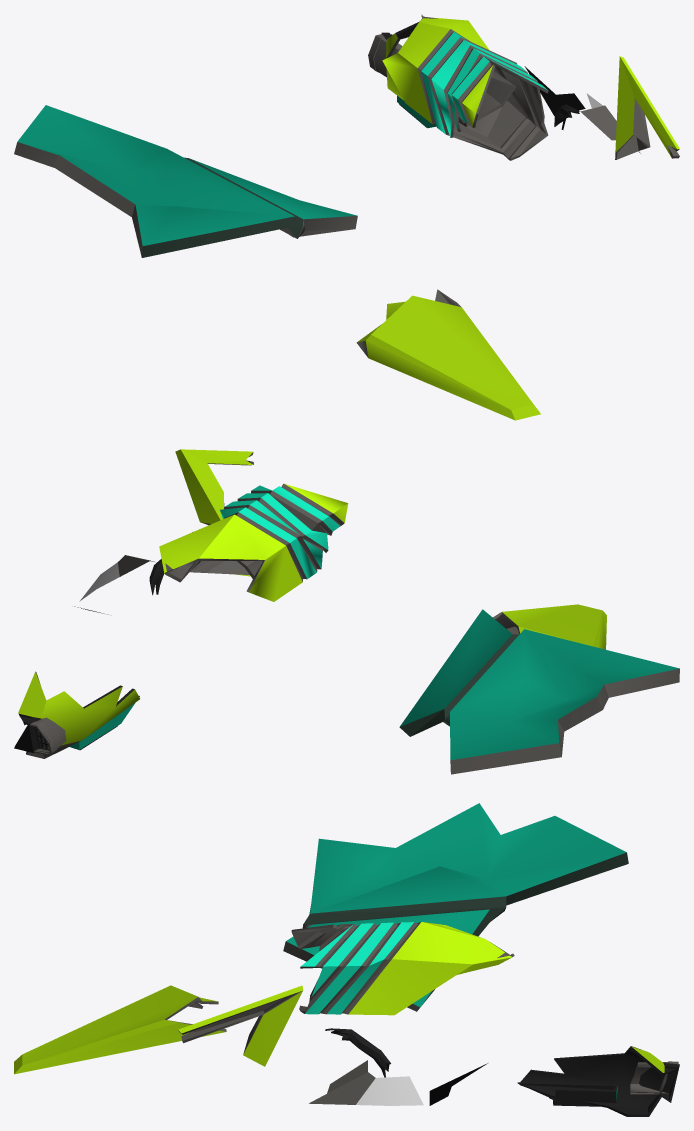
The model's file is scrap_metal.fbx.
The picture shows the model from 3 angles, top to bottom: view 1: azimuth 30°, elevation 25°; view 2: azimuth 150°, elevation 25°; view 3: azimuth 270°, elevation 25°; orthographic projection. The views are drawn at different scales.
Parts seen in each view (by area): view 1: metal 6, metal 3, metal 1, metal 4, metal 7, metal 5, metal 9; view 2: metal 6, metal 3, metal 7, metal 1, metal 4; view 3: metal 6, metal 3, metal 7, metal 1, metal 4, metal 8, metal 9, metal 2, metal 5.
Part boxes in pixels (x1,y1,x2,y2): metal 6: (14,105,357,257); metal 3: (382,14,548,160); metal 1: (356,289,540,420); metal 4: (615,56,679,159); metal 7: (368,22,436,128); metal 5: (524,66,585,116); metal 9: (580,105,640,153); metal 6: (399,609,679,774); metal 3: (159,483,348,601); metal 7: (14,671,139,758); metal 1: (493,604,606,649); metal 4: (175,449,253,525); metal 6: (283,803,628,1011); metal 3: (291,922,514,1015); metal 7: (517,1046,679,1116); metal 1: (14,985,226,1074); metal 4: (178,985,303,1066); metal 8: (356,1076,423,1105); metal 9: (309,1060,375,1104); metal 2: (325,1028,390,1077); metal 5: (429,1063,487,1105).
Bounding box in the file's own units: 1946 × 2198 × 757.
